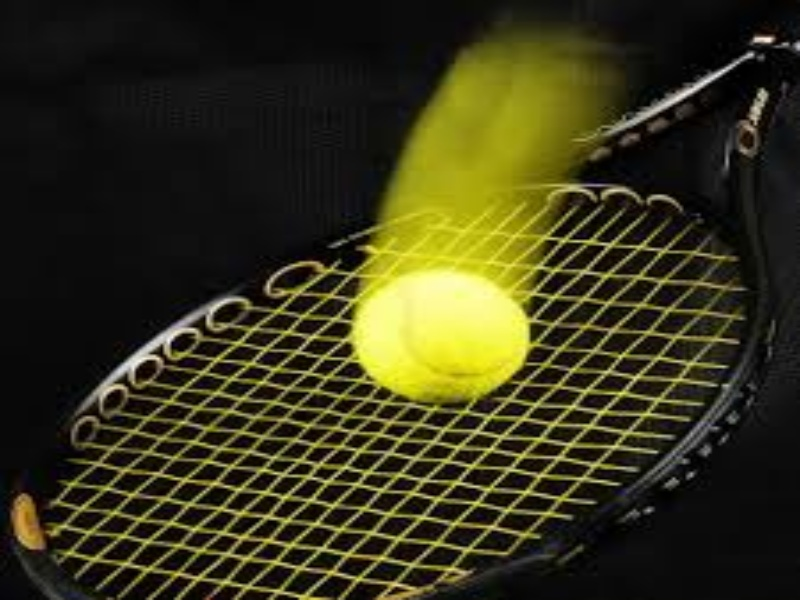tennis ball: (347, 234, 543, 431)
